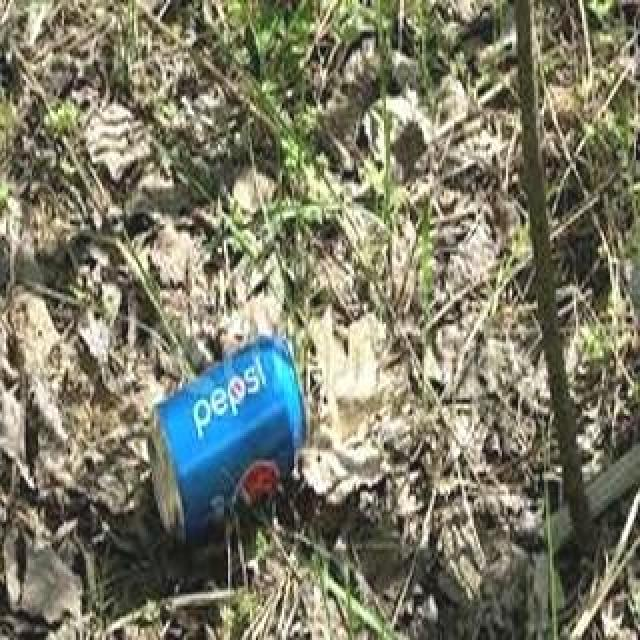Can: (151, 329, 311, 533)
